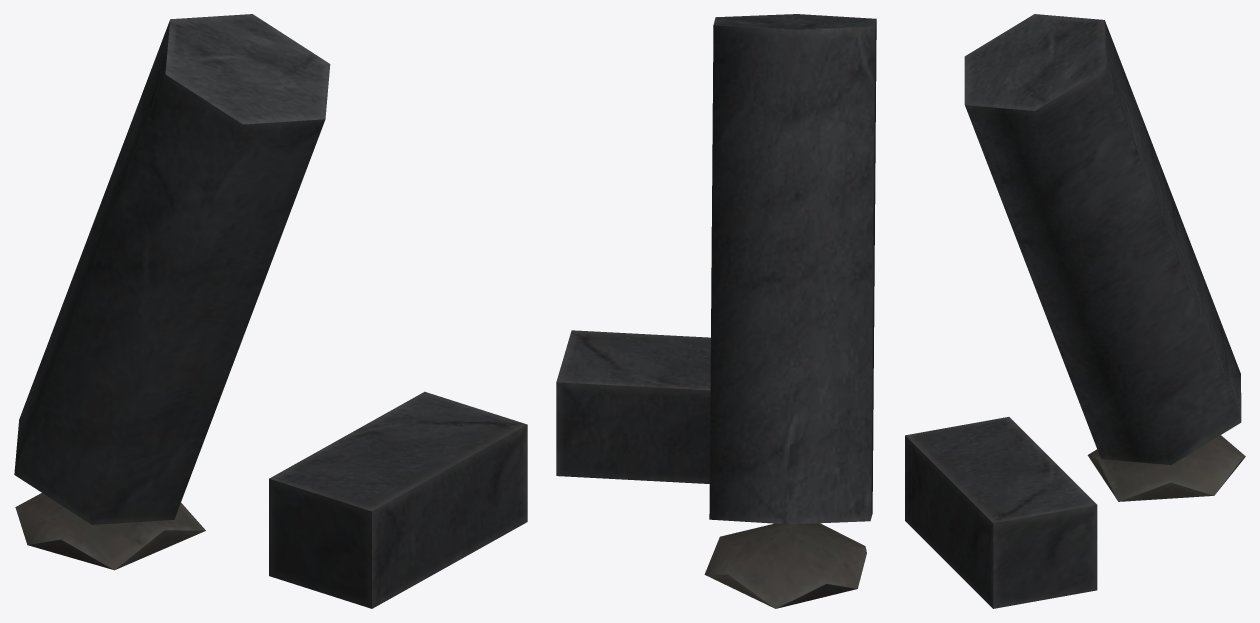
File: basalt_column_2.glb
3 renders of one model, left to right at view 1: azimuth 30°, elevation 25°; view 2: azimuth 150°, elevation 25°; view 3: azimuth 270°, elevation 25°, orthographic. The views are drawn at different scales.
Visible parts, largest first — view 1: te_prop_basalt_column_2; view 2: te_prop_basalt_column_2; view 3: te_prop_basalt_column_2.
Boxes of the visible parts, x1,y1,x2,y2 form: te_prop_basalt_column_2: (14, 14, 527, 608); te_prop_basalt_column_2: (556, 14, 876, 608); te_prop_basalt_column_2: (905, 14, 1245, 608).
Size of the model in its own units: 0.2213 by 0.2709 by 0.1807.
Materials: 1 (1 with a texture image).
